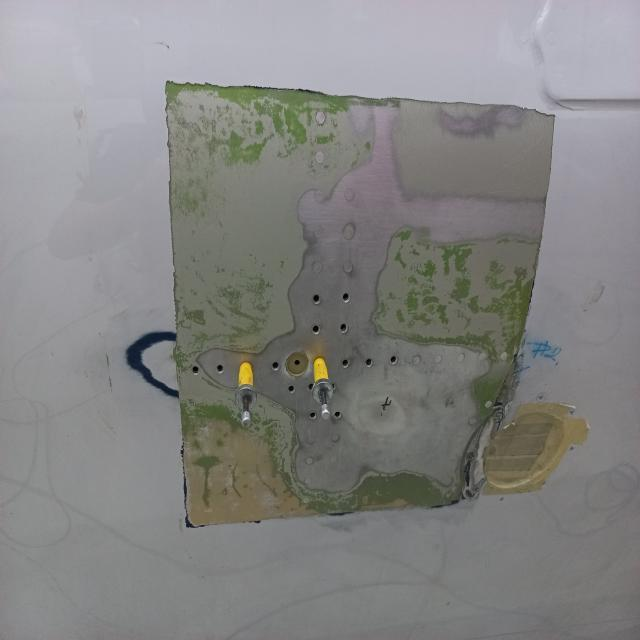Missing Fastener: (386, 350, 402, 370), (307, 322, 321, 338), (270, 358, 282, 374), (362, 356, 373, 372), (330, 410, 344, 422), (310, 294, 322, 306), (190, 364, 202, 376), (214, 364, 226, 376), (338, 358, 349, 370), (339, 322, 349, 334), (340, 292, 350, 304), (287, 384, 297, 396), (294, 355, 302, 369), (309, 410, 317, 422), (308, 382, 314, 391)
